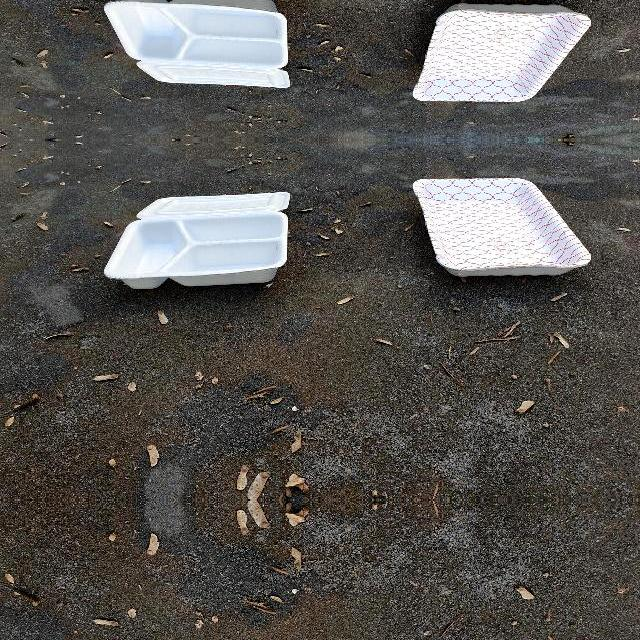Styrofoam: (103, 192, 291, 288), (103, 191, 289, 288), (414, 177, 592, 276), (414, 4, 592, 103), (413, 3, 591, 102), (413, 178, 591, 276), (103, 0, 289, 89), (103, 0, 291, 88)
